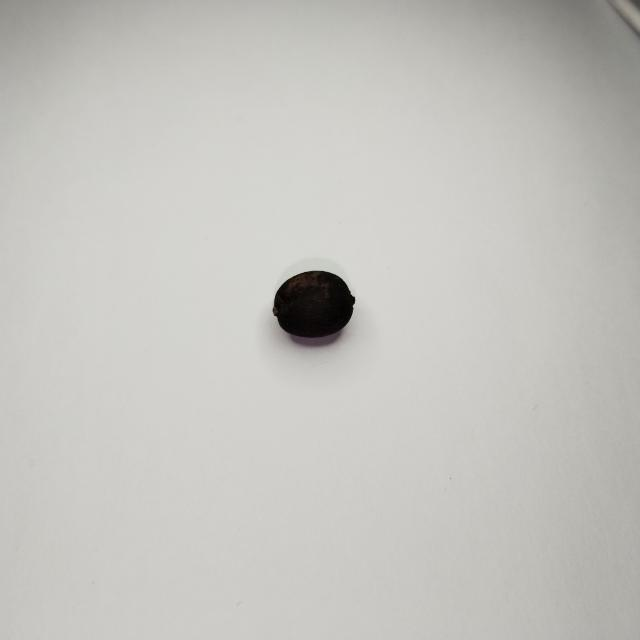Danado: (273, 269, 355, 344)
